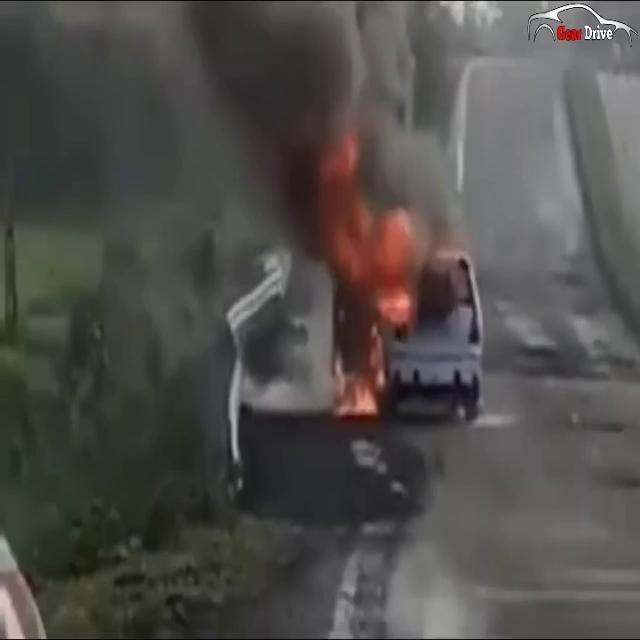Fire: (321, 174, 424, 422)
Smoke: (0, 0, 381, 260)
